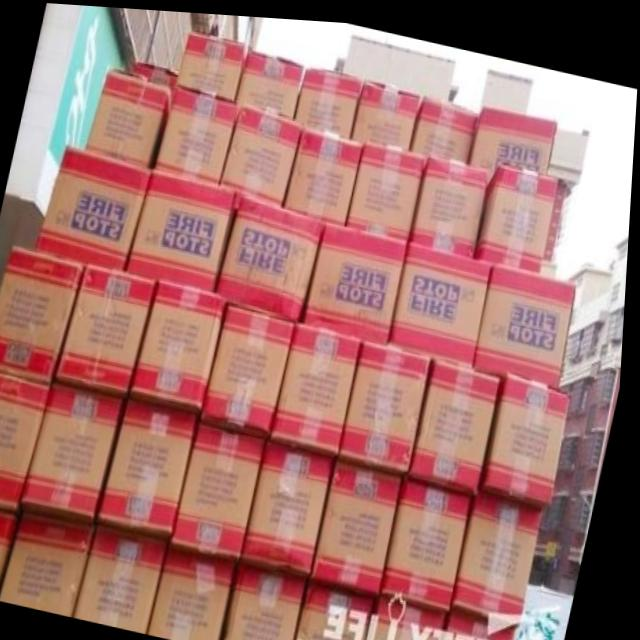box: (26, 383, 130, 519), (219, 190, 327, 320), (38, 145, 153, 267), (130, 167, 239, 288), (60, 261, 160, 391), (104, 397, 201, 531), (176, 418, 271, 554), (392, 237, 495, 362), (247, 434, 340, 572), (135, 278, 231, 410), (413, 354, 505, 491), (315, 455, 409, 589), (0, 243, 89, 384), (308, 218, 410, 341), (479, 257, 580, 381), (486, 364, 576, 500), (343, 335, 434, 468), (207, 302, 299, 433), (386, 469, 475, 600), (457, 484, 549, 610), (276, 321, 365, 449), (6, 509, 100, 616), (81, 525, 173, 632), (476, 155, 562, 263), (86, 68, 173, 164), (155, 544, 242, 640), (222, 102, 303, 204), (156, 84, 239, 179), (287, 123, 366, 220), (412, 151, 489, 249), (0, 372, 53, 510), (349, 138, 425, 233), (232, 556, 315, 640), (471, 98, 560, 174), (352, 75, 423, 147), (177, 30, 248, 99), (303, 579, 382, 640), (296, 66, 364, 133), (236, 49, 305, 115), (411, 90, 480, 156), (379, 592, 452, 640), (451, 601, 524, 640), (0, 511, 26, 597), (131, 60, 180, 85)
